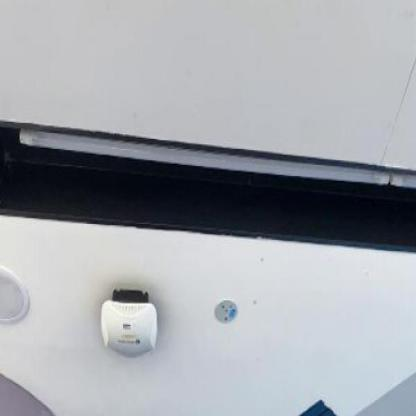light_off: (8, 32, 416, 240)
